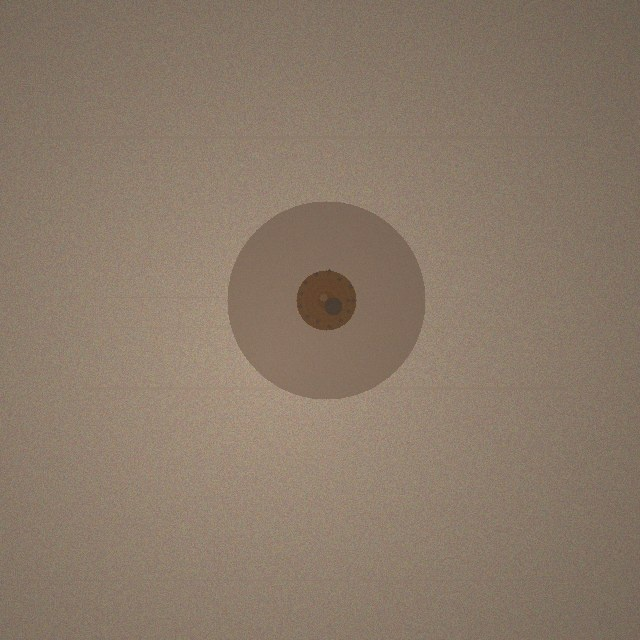cold_weld: (227, 201, 425, 399)
